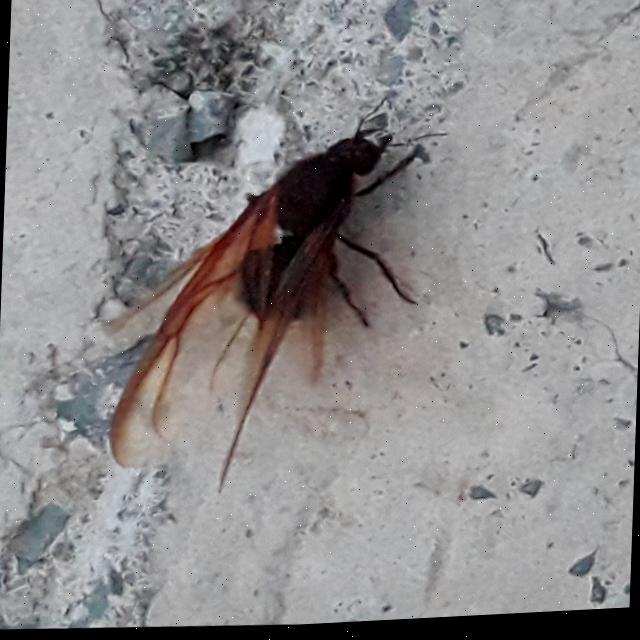Alive-Female-Alate: (97, 90, 450, 510)
